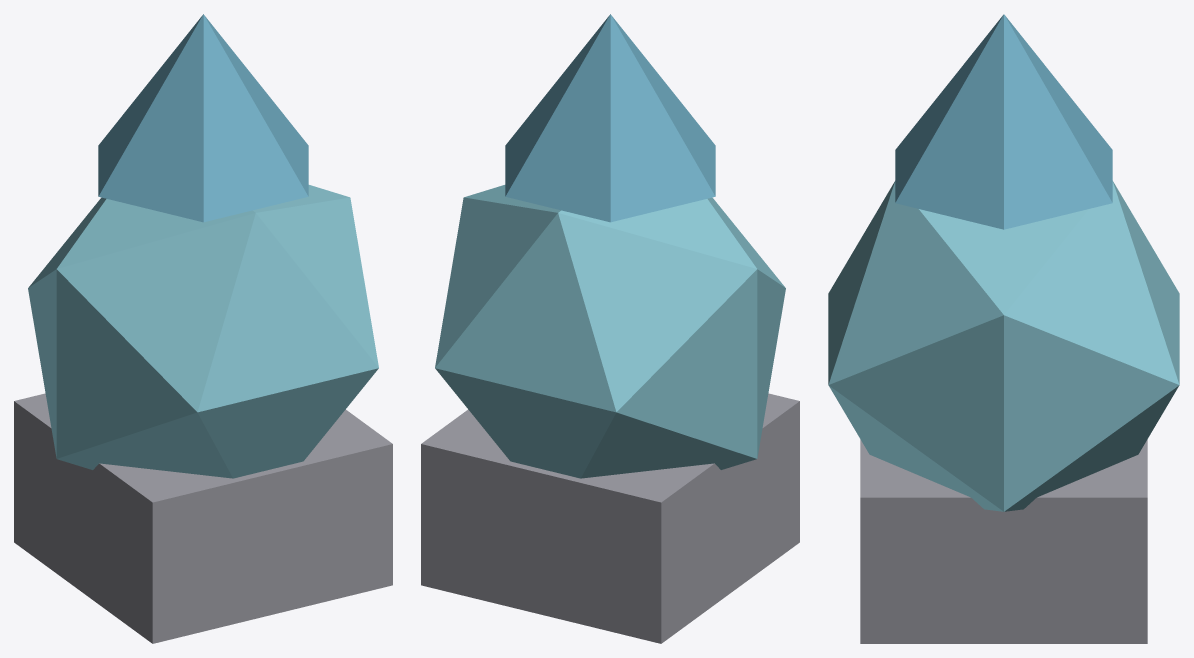
3 renders of one model, left to right at view 1: azimuth 30°, elevation 25°; view 2: azimuth 150°, elevation 25°; view 3: azimuth 270°, elevation 25°, orthographic. The views are drawn at different scales.
Visible parts, largest first — view 1: part0, part2, part1; view 2: part0, part2, part1; view 3: part0, part2, part1.
Part boxes in pixels (<box>): part0: <box>28,185,378,478</box>; part2: <box>14,393,392,643</box>; part1: <box>98,14,308,222</box>; part0: <box>435,185,785,478</box>; part2: <box>421,393,799,643</box>; part1: <box>505,14,715,222</box>; part0: <box>828,181,1179,511</box>; part2: <box>860,439,1147,643</box>; part1: <box>895,14,1112,229</box>.
Bounding box in the file's own units: 1.96 × 3.5 × 1.96.
